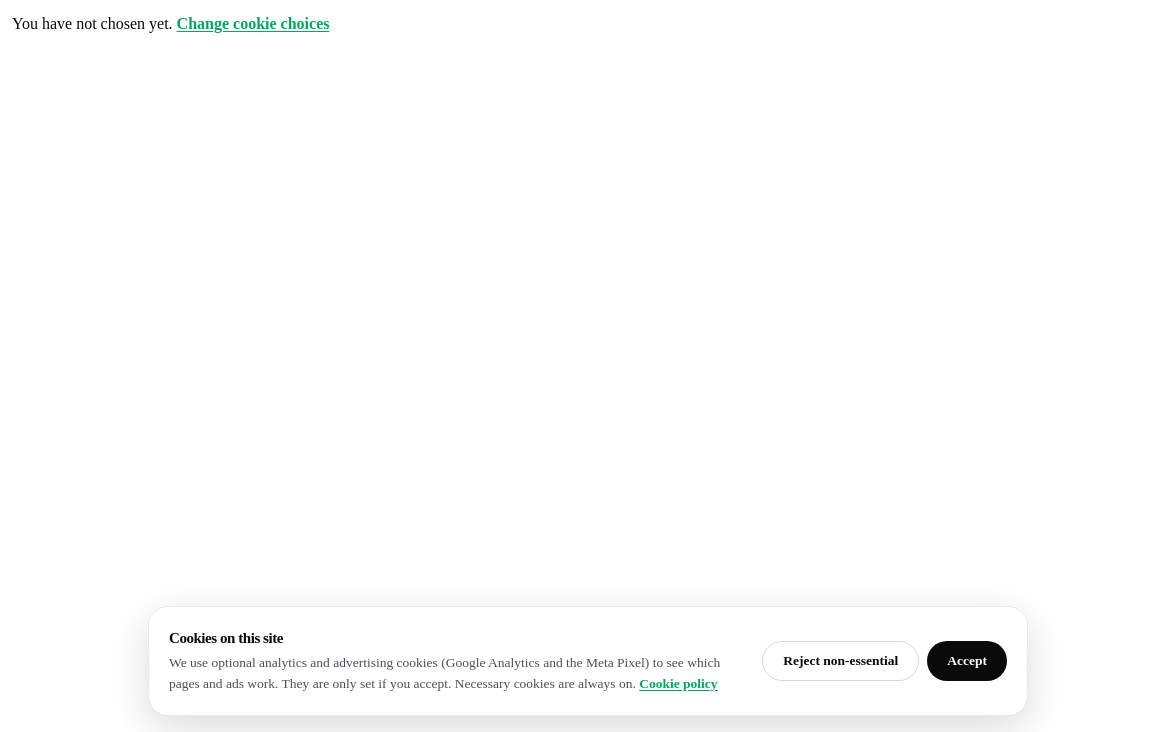
before consent › Reject keeps everything off and hides the banner
Click the button "Reject non-essential" at (841, 661), box [762,641,919,681]
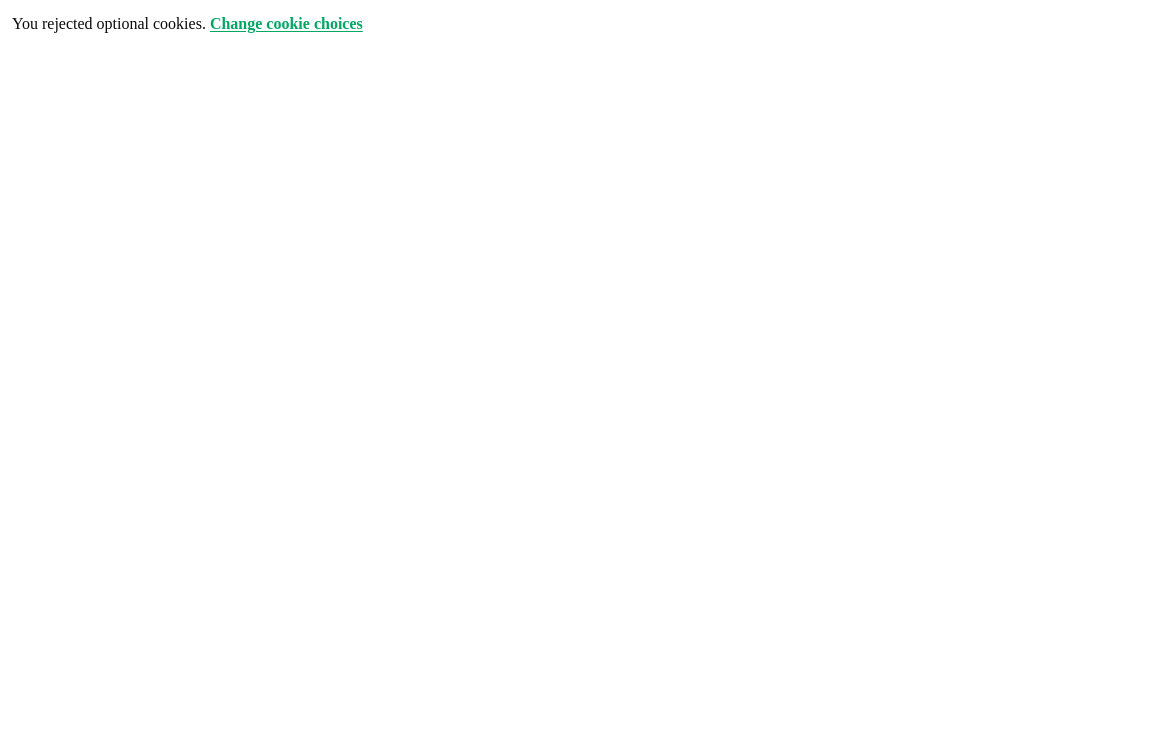
Result: the element with test id "consent-banner" is gone
Result: the element with test id "cookie-choices" shows "You rejected optional cookies." at [12,15,206,32]
